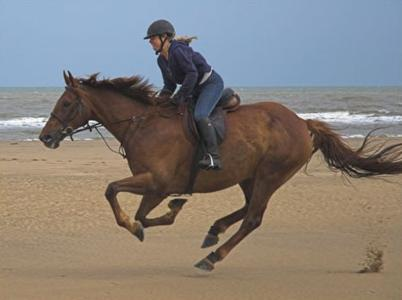person: (147, 20, 225, 172)
